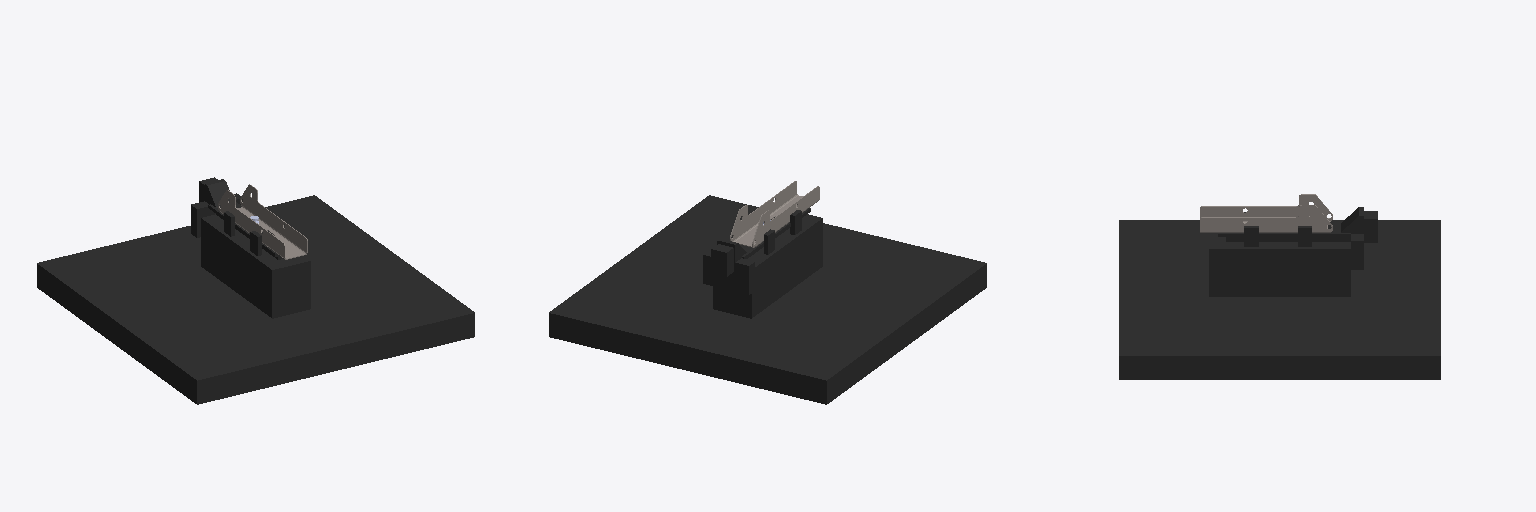
The model's file is Pallet_Wing.obj.
3 renders of one model, left to right at view 1: azimuth 30°, elevation 25°; view 2: azimuth 150°, elevation 25°; view 3: azimuth 270°, elevation 25°, orthographic.
Parts seen in each view (by area): view 1: Pallet, Wing_mod__edit_22_05__MM; view 2: Pallet, Wing_mod__edit_22_05__MM; view 3: Pallet, Wing_mod__edit_22_05__MM.
Part boxes in pixels (left/top/right/bottom): Pallet: left=37, top=177, right=474, bottom=404; Wing_mod__edit_22_05__MM: left=218, top=184, right=307, bottom=259; Pallet: left=549, top=195, right=986, bottom=404; Wing_mod__edit_22_05__MM: left=730, top=181, right=819, bottom=247; Pallet: left=1119, top=207, right=1440, bottom=379; Wing_mod__edit_22_05__MM: left=1200, top=194, right=1332, bottom=232.
Size of the model in its own units: 180 by 69.46 by 180.